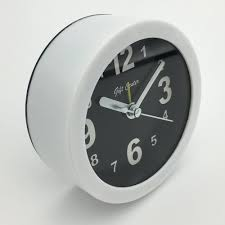alarm_clock: (21, 8, 203, 203), (33, 8, 203, 203)
